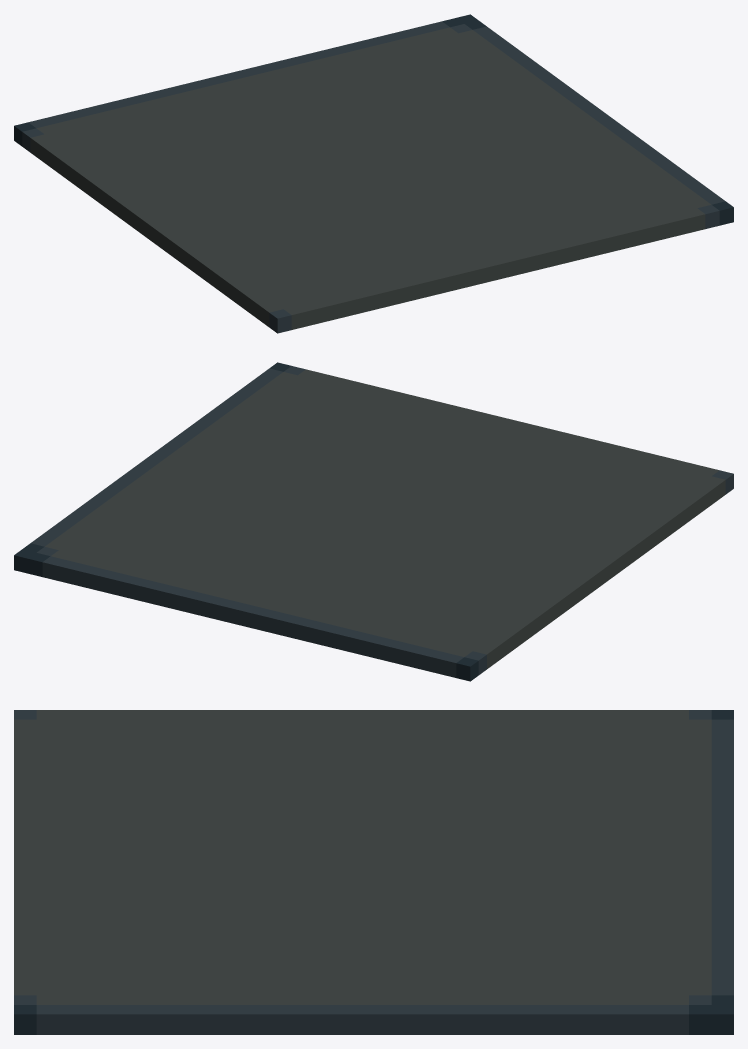
Rendered from Tilemap_Floor_0000.obj.
3 renders of one model, top to bottom at view 1: azimuth 30°, elevation 25°; view 2: azimuth 150°, elevation 25°; view 3: azimuth 270°, elevation 25°, orthographic. The views are drawn at different scales.
Bounding box in the file's own units: 3.2 × 0.1 × 3.2.
Materials: 1 (1 with a texture image).
